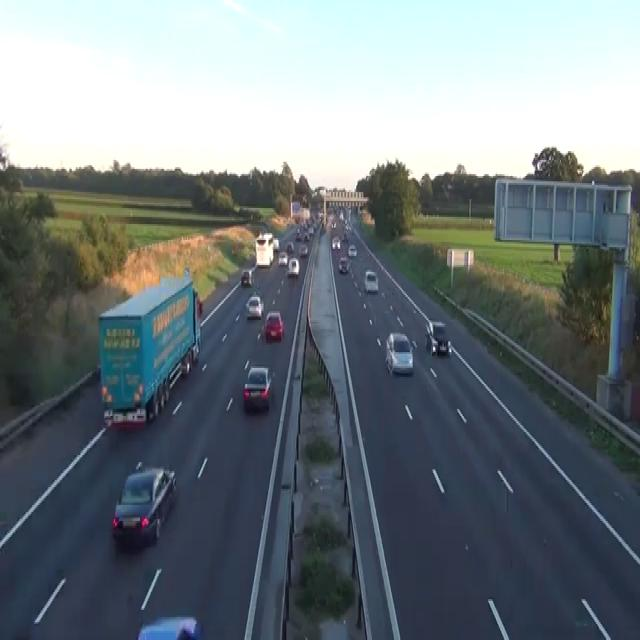Car: (112, 460, 176, 546), (136, 615, 201, 638), (385, 331, 413, 375), (243, 366, 271, 409), (424, 320, 451, 356), (263, 311, 283, 341), (245, 295, 263, 318), (168, 361, 181, 389), (363, 270, 378, 294), (180, 350, 191, 375), (287, 256, 299, 277), (296, 224, 309, 242), (240, 268, 252, 286), (338, 256, 349, 274), (195, 294, 203, 318), (277, 251, 287, 265), (331, 235, 340, 249), (347, 244, 357, 256), (299, 244, 308, 256), (265, 233, 273, 245), (302, 229, 309, 242), (286, 240, 293, 252), (343, 221, 351, 231), (273, 237, 279, 250), (198, 298, 202, 316), (342, 231, 348, 242), (308, 226, 314, 236), (296, 228, 301, 240), (331, 219, 336, 229), (318, 210, 323, 218), (339, 210, 343, 218)
Truck: (97, 274, 202, 428), (255, 231, 274, 267)
